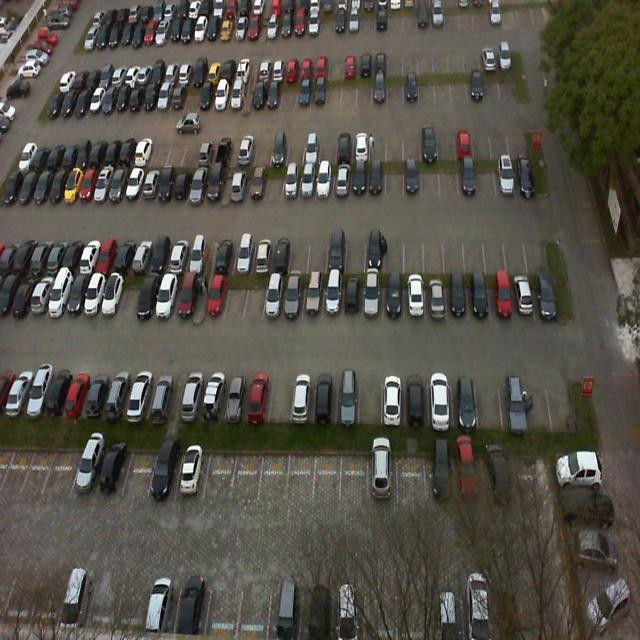empty: (123, 442, 157, 501), (43, 444, 79, 498), (230, 451, 264, 504), (544, 370, 576, 426), (204, 448, 238, 499), (259, 448, 291, 500), (312, 451, 342, 506), (21, 446, 55, 494), (523, 370, 549, 428), (117, 271, 145, 323), (476, 372, 502, 428), (288, 449, 314, 504), (222, 272, 248, 325), (268, 373, 294, 425), (359, 370, 382, 426), (240, 274, 264, 324), (442, 226, 466, 273), (483, 227, 507, 274), (525, 229, 549, 272), (505, 227, 527, 273), (424, 228, 444, 276), (404, 226, 424, 272), (382, 231, 404, 272), (464, 228, 484, 273), (287, 234, 309, 274), (344, 231, 364, 275), (307, 234, 327, 273), (478, 158, 496, 198), (267, 166, 283, 207), (422, 163, 440, 197), (440, 162, 458, 194), (388, 162, 403, 200)
occupied: (94, 444, 132, 502), (70, 446, 106, 500), (148, 444, 182, 499), (175, 445, 209, 496), (223, 370, 254, 424), (499, 373, 527, 431), (64, 367, 92, 421), (82, 370, 111, 420), (136, 267, 162, 321), (428, 375, 454, 429), (106, 371, 134, 421), (452, 374, 478, 427), (153, 274, 180, 324), (312, 372, 336, 428), (127, 370, 153, 420), (202, 370, 228, 420), (246, 372, 272, 422), (262, 270, 286, 324), (148, 374, 175, 422), (405, 374, 429, 427), (174, 272, 198, 324), (530, 270, 556, 318), (101, 270, 125, 321), (334, 372, 358, 422), (290, 372, 313, 424), (486, 273, 511, 320), (181, 373, 206, 419), (382, 371, 404, 423), (205, 273, 225, 327), (130, 236, 156, 276), (113, 238, 140, 276), (148, 236, 172, 278), (303, 276, 324, 324), (467, 274, 488, 322), (167, 238, 193, 276), (509, 276, 531, 320), (444, 277, 467, 319), (188, 238, 212, 278), (282, 276, 302, 324), (155, 165, 177, 207), (172, 165, 194, 207), (188, 164, 210, 206), (139, 164, 162, 204), (511, 156, 534, 196), (322, 277, 342, 323), (363, 276, 383, 322), (404, 274, 424, 320), (426, 276, 446, 322), (230, 163, 252, 204), (204, 166, 226, 206), (229, 238, 251, 276), (384, 276, 402, 322), (213, 239, 235, 276), (251, 235, 273, 272), (268, 236, 290, 273), (345, 275, 362, 321), (324, 235, 344, 273), (282, 163, 300, 204), (364, 235, 383, 273), (458, 162, 478, 197), (494, 160, 514, 195), (299, 166, 317, 204), (368, 162, 386, 200), (250, 166, 268, 203), (332, 165, 350, 202), (403, 163, 421, 197), (316, 166, 332, 201), (351, 164, 367, 198)
